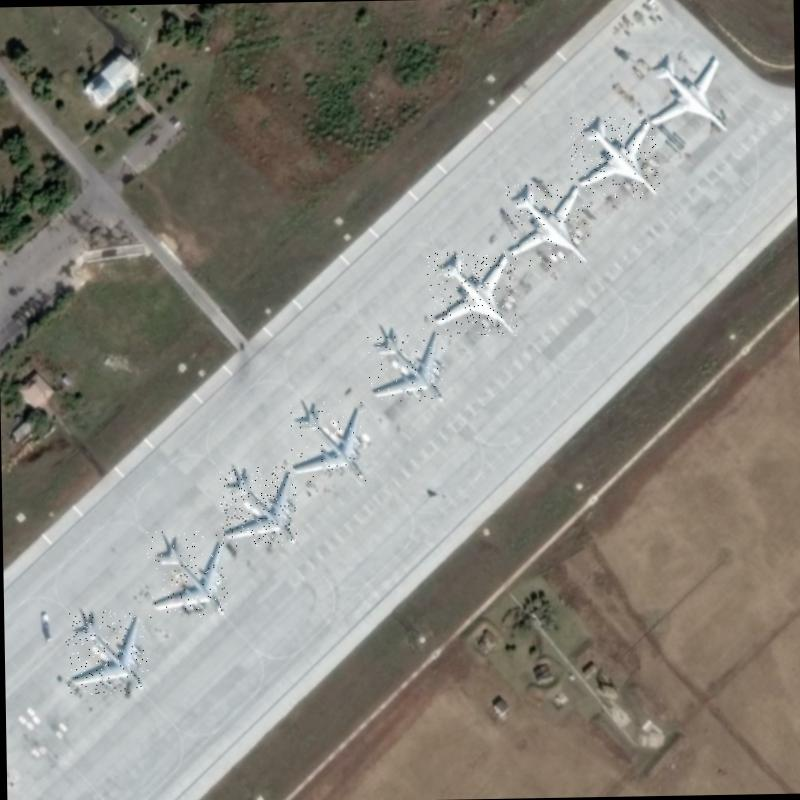A17: (144, 530, 228, 618), (65, 610, 148, 694), (285, 399, 366, 482), (219, 465, 298, 546), (367, 324, 445, 404)
A6: (504, 181, 593, 268), (426, 250, 516, 336), (569, 115, 660, 199), (646, 51, 730, 134)
